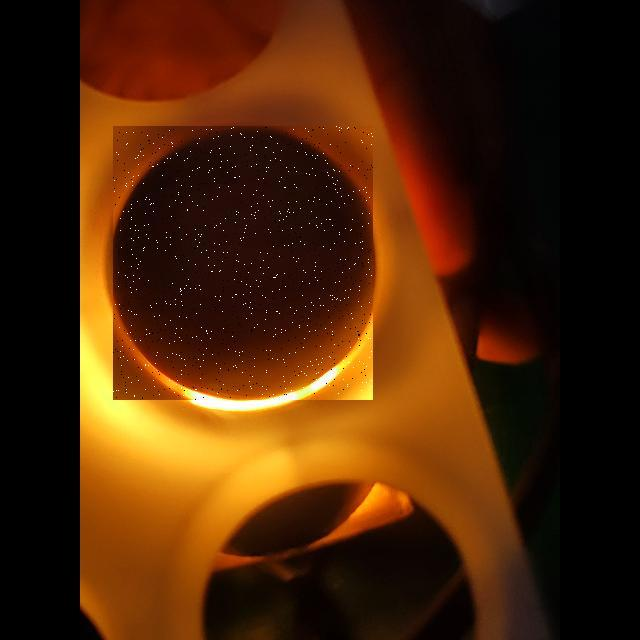Fertile: (113, 126, 373, 400)
